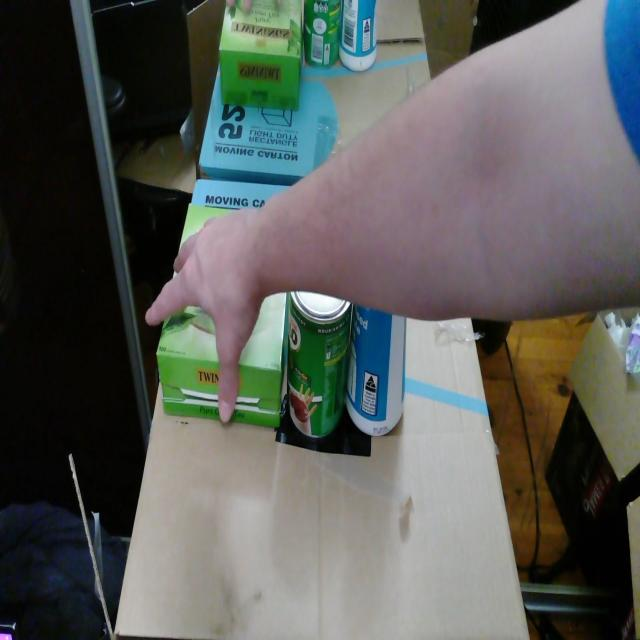nestle_milo_tin: (287, 291, 352, 438)
twinings_greentea_box: (228, 293, 286, 427), (156, 306, 221, 419), (179, 204, 233, 253)
woolworths_salt_bottle: (346, 305, 406, 436)
